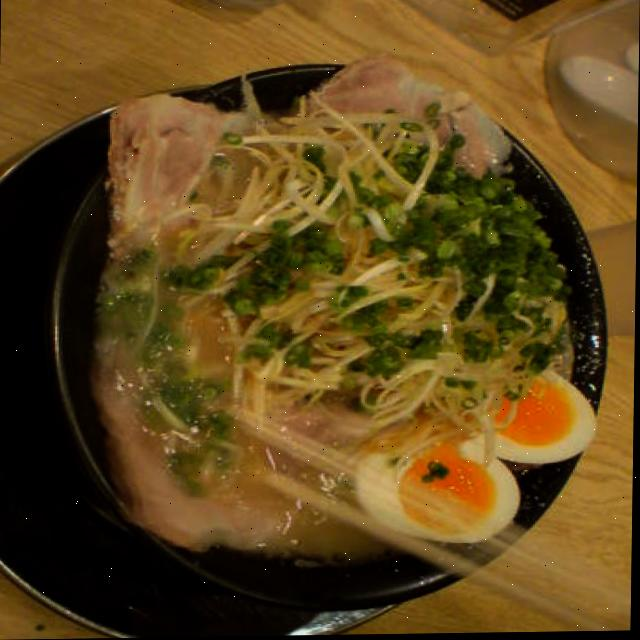面条主食: (0, 65, 619, 640)
